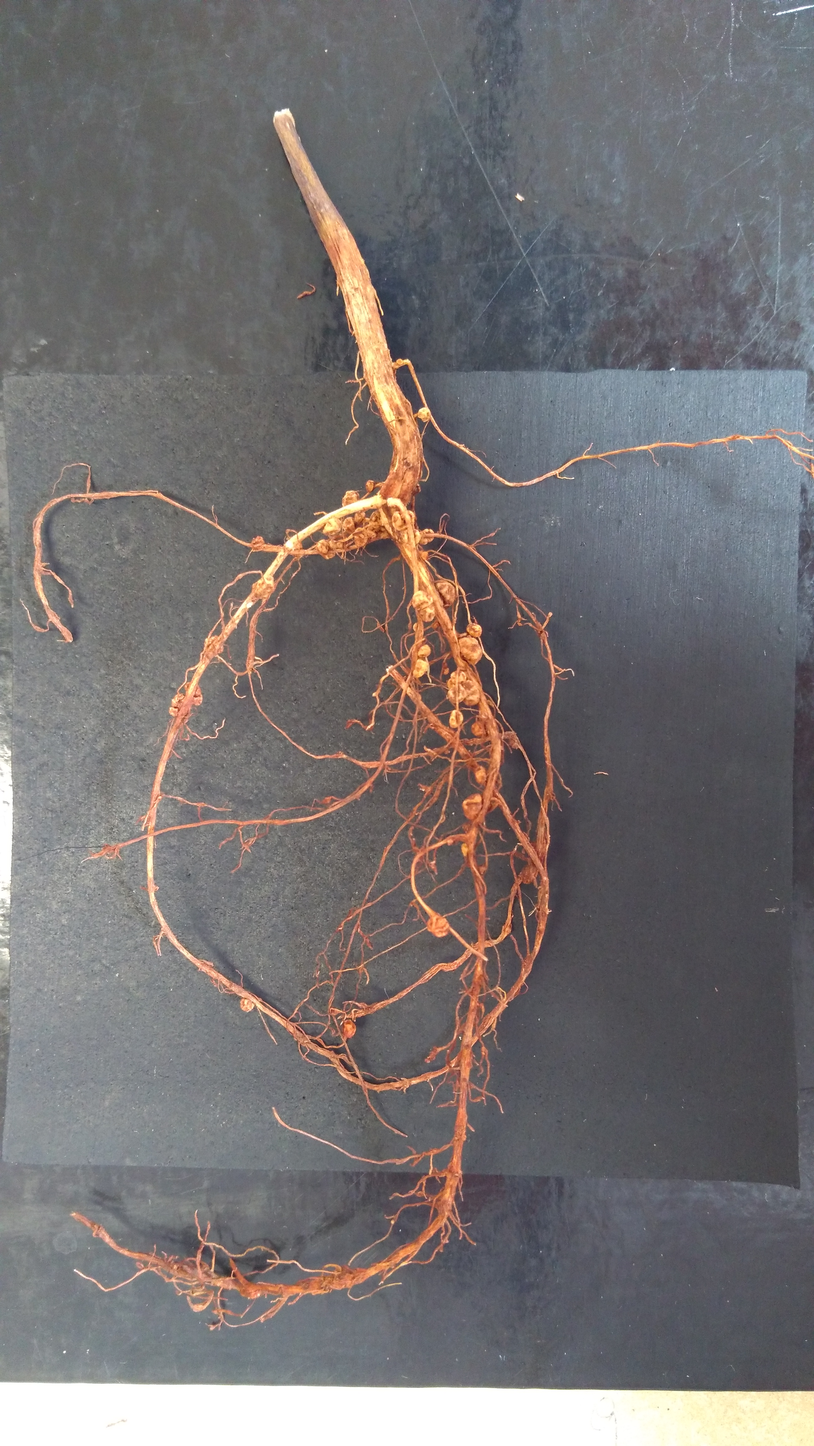nodule: (412, 590, 435, 622), (434, 579, 458, 608), (458, 637, 483, 664), (169, 694, 189, 723), (252, 574, 275, 598), (462, 793, 483, 819), (427, 913, 449, 937), (462, 680, 480, 706), (392, 510, 414, 531), (184, 682, 203, 706), (239, 1283, 267, 1299), (461, 842, 477, 868), (316, 539, 336, 559), (447, 684, 466, 703), (204, 635, 224, 653), (521, 863, 538, 884), (485, 771, 502, 792), (370, 510, 385, 533), (412, 659, 429, 678), (342, 490, 360, 507), (288, 537, 302, 558), (323, 518, 341, 534), (403, 529, 421, 544), (354, 528, 368, 547), (449, 710, 463, 728), (343, 1019, 356, 1038), (342, 517, 356, 534), (419, 529, 434, 544), (471, 721, 486, 736), (466, 623, 482, 637), (486, 797, 499, 814), (474, 765, 485, 785), (241, 997, 255, 1012), (451, 670, 466, 684), (417, 407, 431, 422), (251, 536, 264, 552), (447, 678, 465, 689), (478, 703, 488, 721), (418, 645, 431, 657), (191, 1284, 205, 1295), (329, 539, 344, 549), (354, 511, 366, 523), (509, 737, 520, 750), (365, 480, 374, 492), (361, 518, 370, 529), (366, 530, 376, 539), (478, 864, 487, 874), (419, 550, 427, 560), (135, 1261, 144, 1269), (431, 622, 439, 629), (413, 623, 419, 632), (396, 358, 403, 365), (443, 667, 449, 675), (448, 839, 454, 846), (444, 749, 450, 755), (481, 1046, 485, 1055), (424, 1057, 430, 1063), (334, 1008, 339, 1015), (154, 886, 159, 892), (372, 692, 377, 697), (390, 1219, 395, 1224), (547, 612, 552, 617), (257, 998, 262, 1002), (422, 788, 425, 791)
